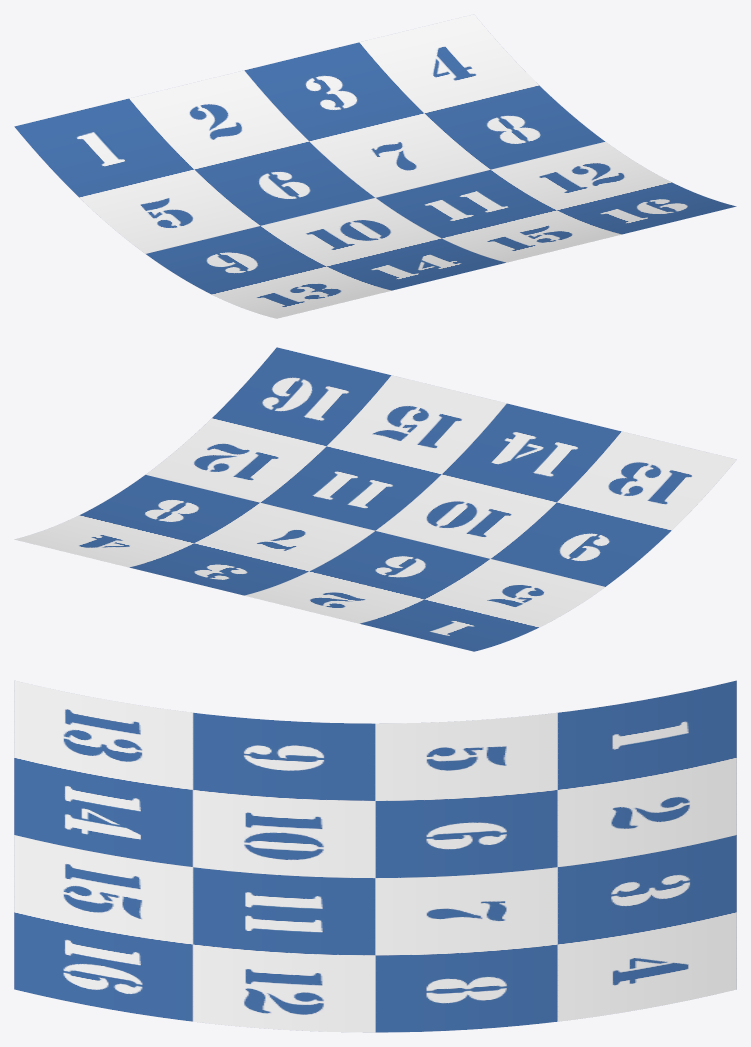
File: Rengoku_Spl_078_Bg_11.fbx
3 views of the same model, one above another, from view 1: azimuth 30°, elevation 25°; view 2: azimuth 150°, elevation 25°; view 3: azimuth 270°, elevation 25° (orthographic). The views are drawn at different scales.
Parts seen in each view (by area): view 1: SM_d_e_P0012_V00_C00_SplRgk_c078_Bg_11; view 2: SM_d_e_P0012_V00_C00_SplRgk_c078_Bg_11; view 3: SM_d_e_P0012_V00_C00_SplRgk_c078_Bg_11.
Boxes of the visible parts, left/top/right/bottom form: SM_d_e_P0012_V00_C00_SplRgk_c078_Bg_11: left=14, top=14, right=736, bottom=318; SM_d_e_P0012_V00_C00_SplRgk_c078_Bg_11: left=14, top=347, right=736, bottom=651; SM_d_e_P0012_V00_C00_SplRgk_c078_Bg_11: left=14, top=680, right=736, bottom=1032.
Size of the model in its own units: 100 by 6.51 by 98.86.
